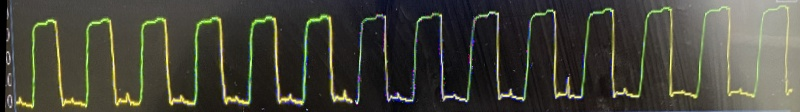hydrop_pressure: (8, 1, 796, 112)
